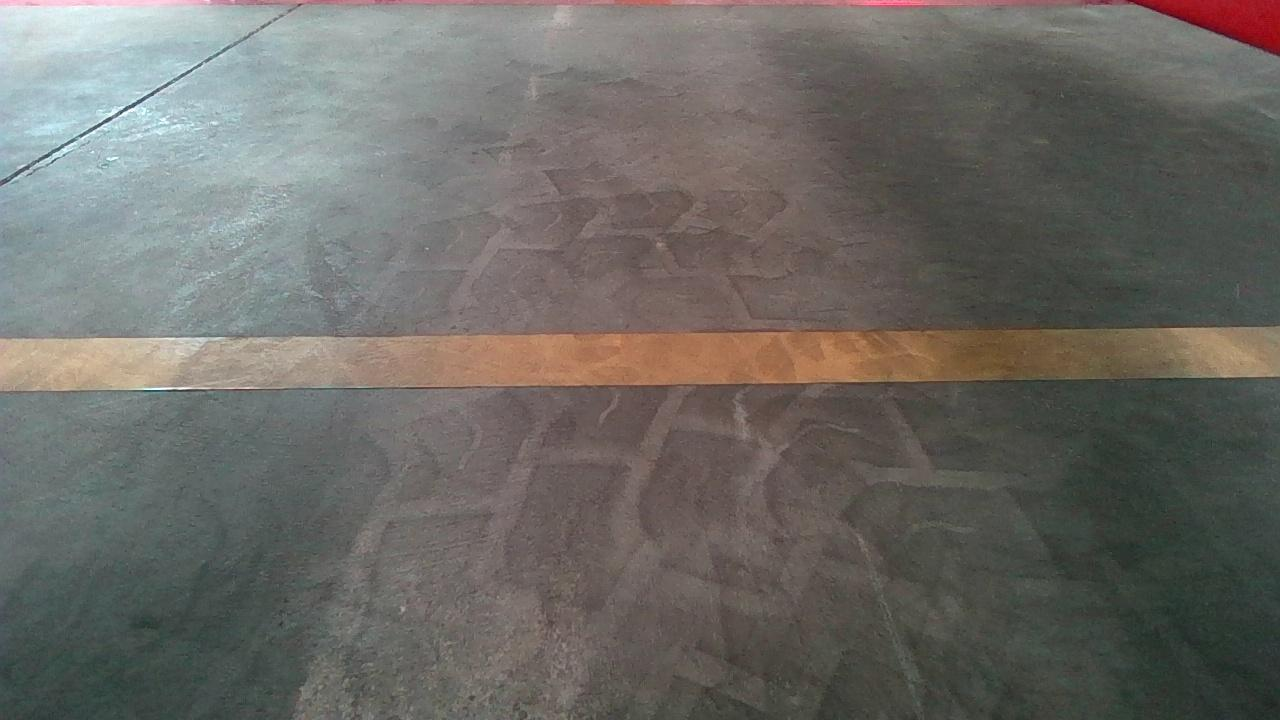yellow_line: (0, 322, 1260, 391)
